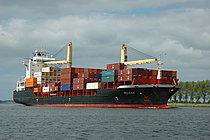Ship: (11, 38, 185, 116)
